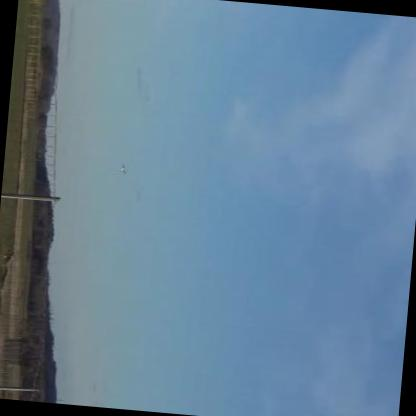plane: (117, 164, 127, 177)
